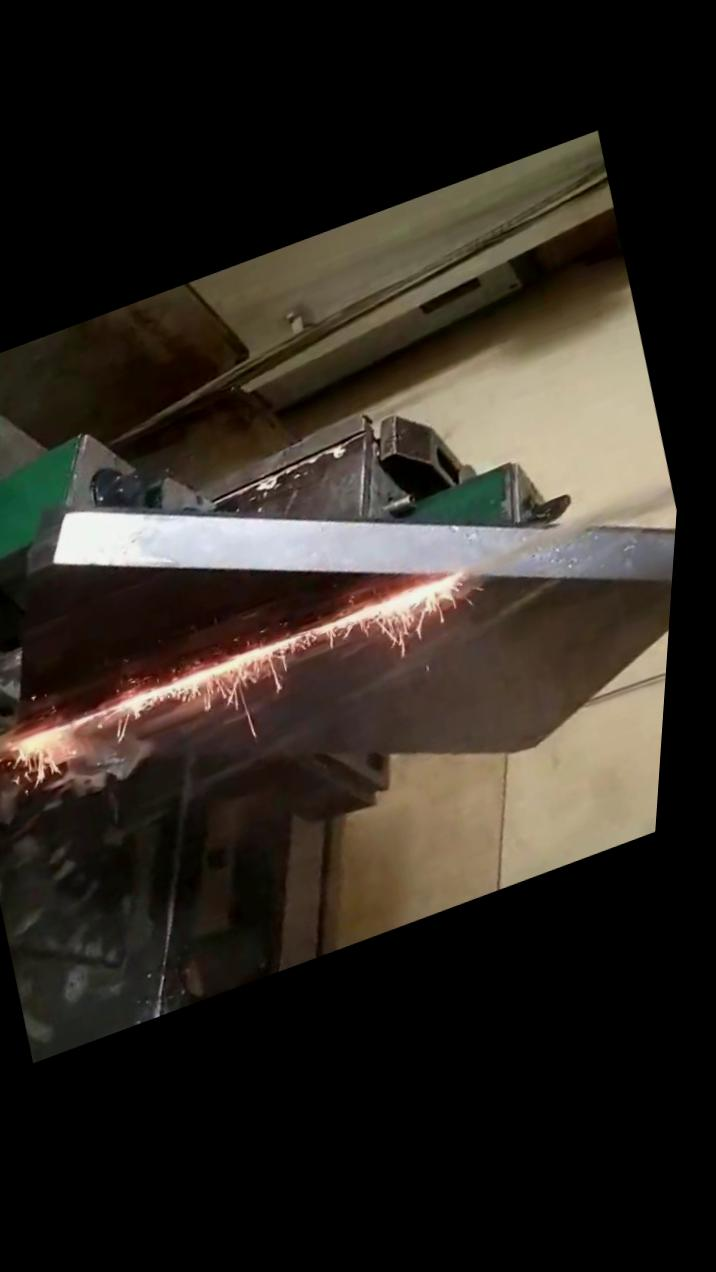fire: (1, 573, 650, 823)
